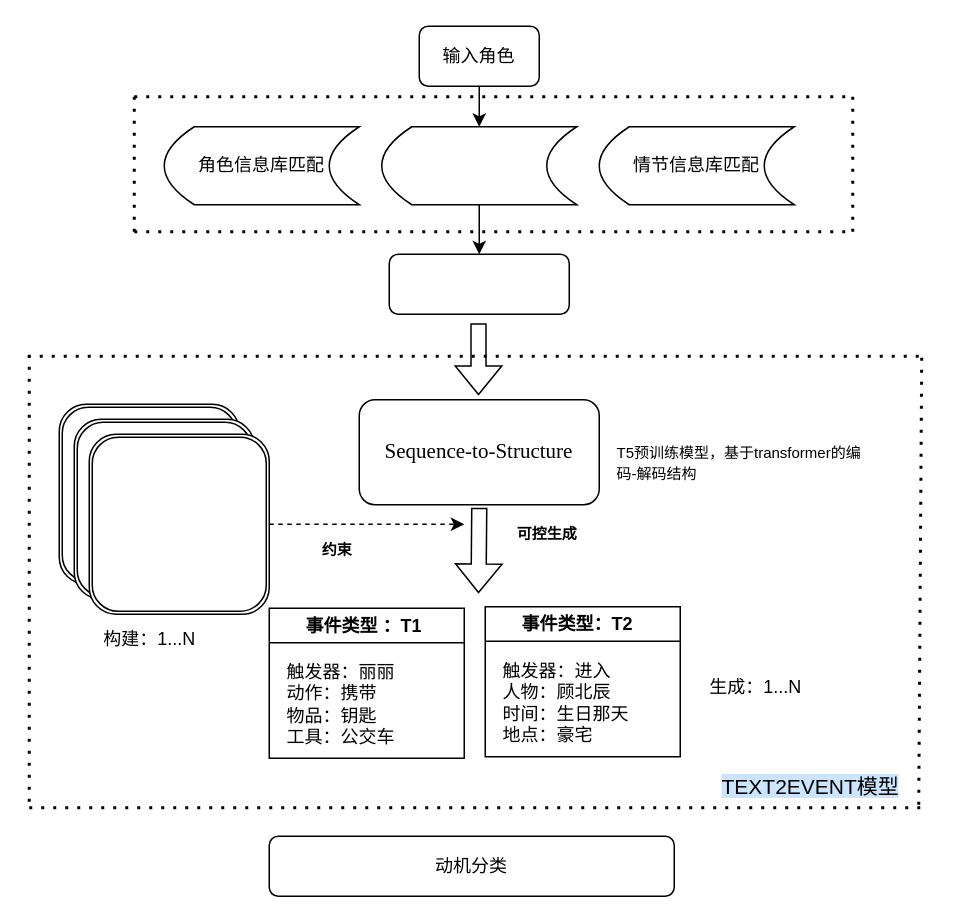
Some shapes in this 957 by 923 pixel diagram are drawn without their labels. Each missing label, with the centre of its shape:
Event Schema 动机目标 目的 角色 时间 机构 ...: point 178,523
场景信息库匹配: point 478,165
该角色参与的场景、情节列表: point 478,283
